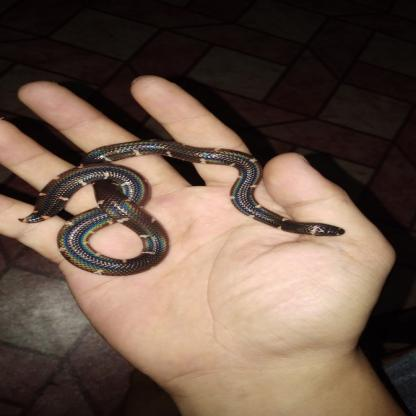Snake: (13, 138, 346, 274)
